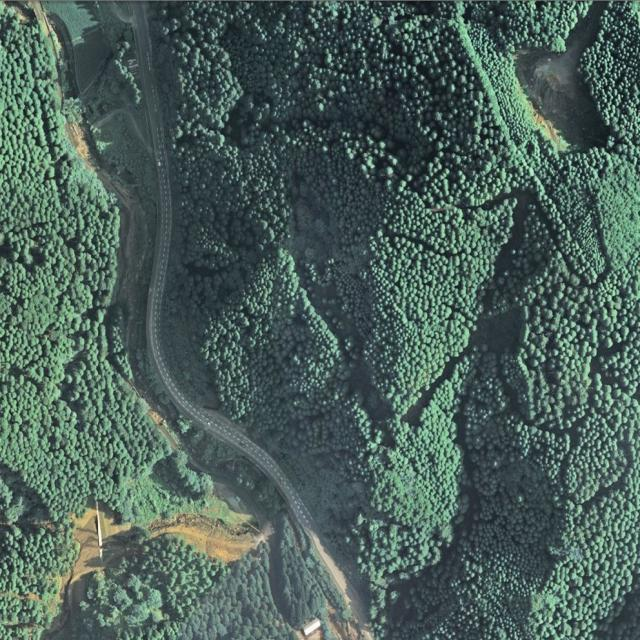landslide: (516, 1, 610, 151)
